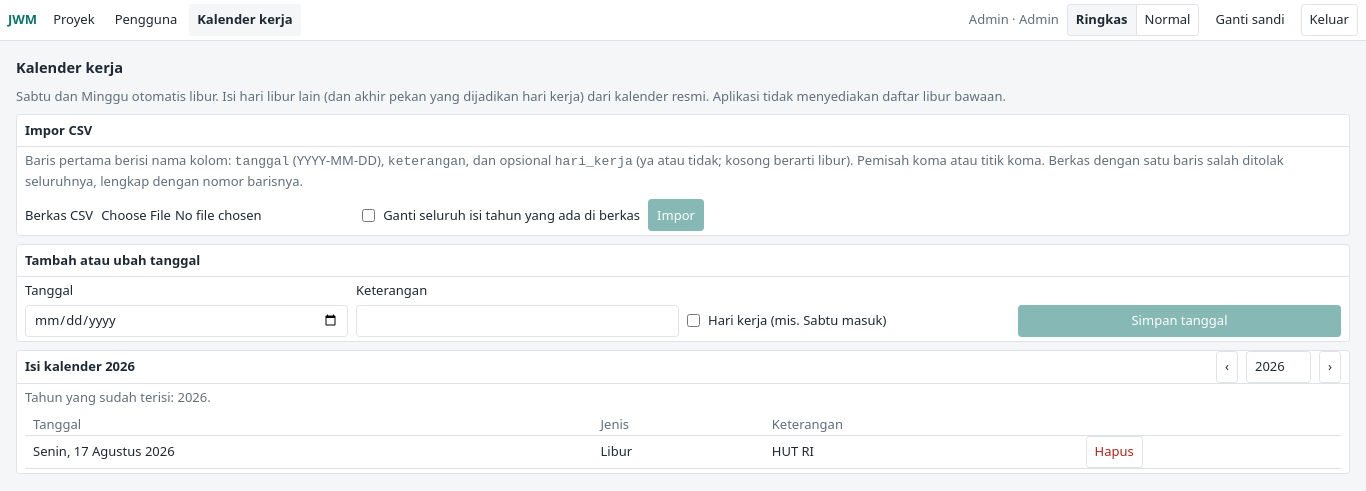
Test: halaman admin kalender kerja › menghapus tanggal setelah konfirmasi
Click the button "Hapus": (1114, 452) [1086,436,1143,468]
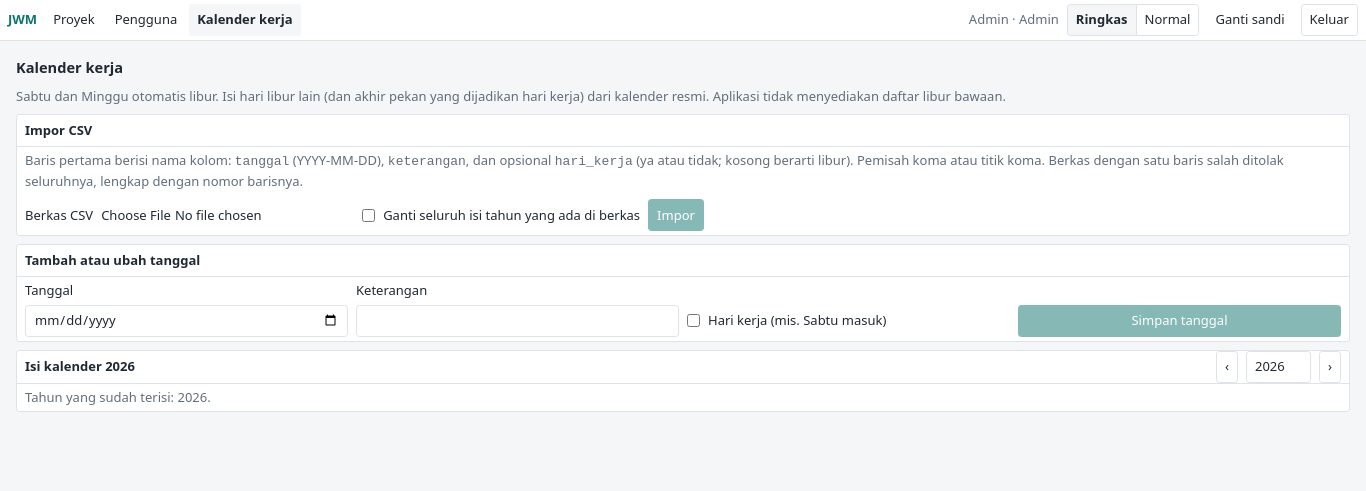
Result: the text "HUT RI" is gone
